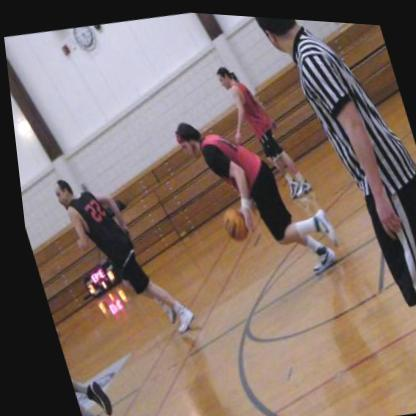basketball: (214, 202, 245, 241)
